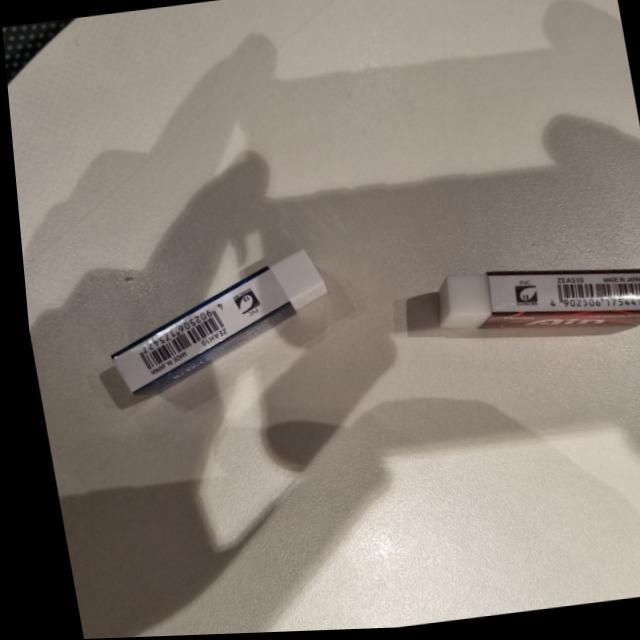blue: (80, 242, 344, 410)
red: (401, 238, 640, 371)
